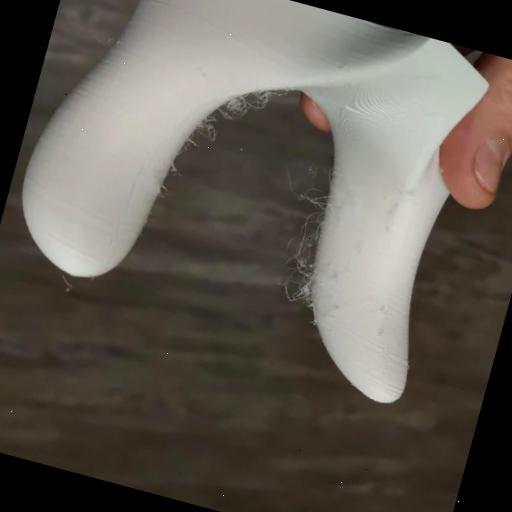stringing: (288, 274, 318, 308), (296, 186, 332, 212), (288, 247, 318, 278), (222, 92, 252, 120), (194, 118, 218, 146), (246, 87, 274, 110)
